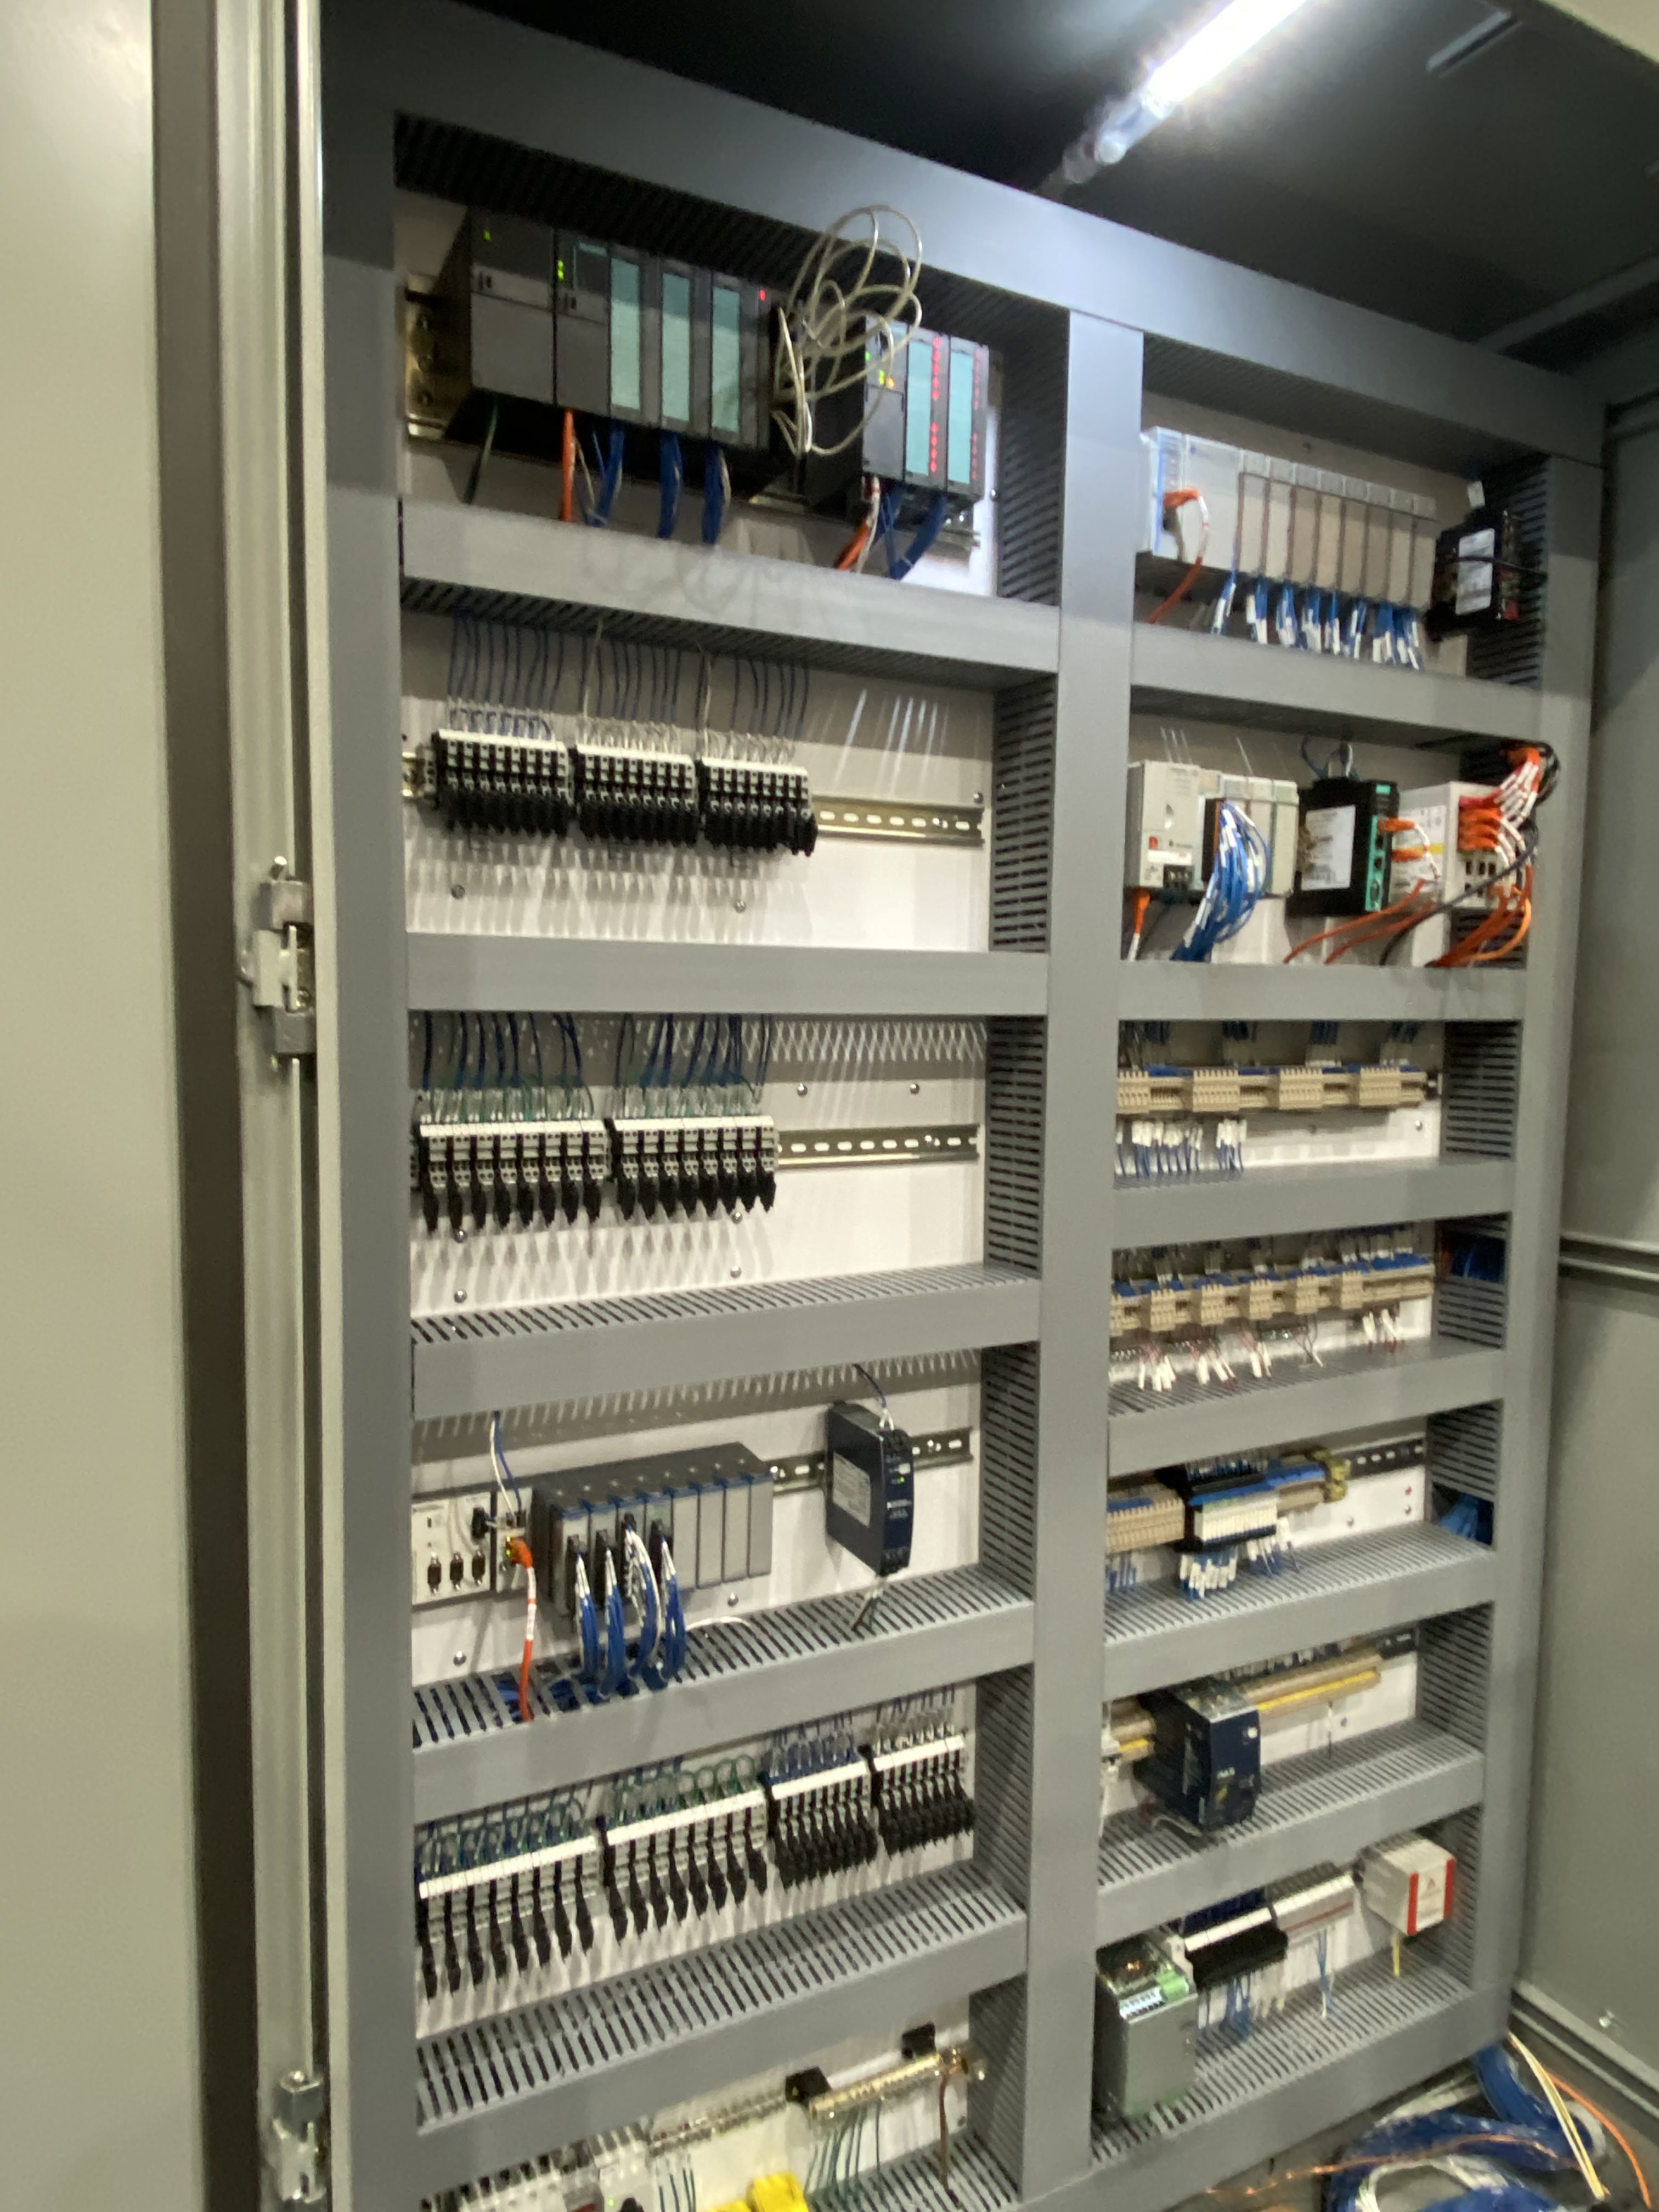AllenBradley: (1136, 758, 1199, 897)
Siemens: (547, 225, 617, 425)
